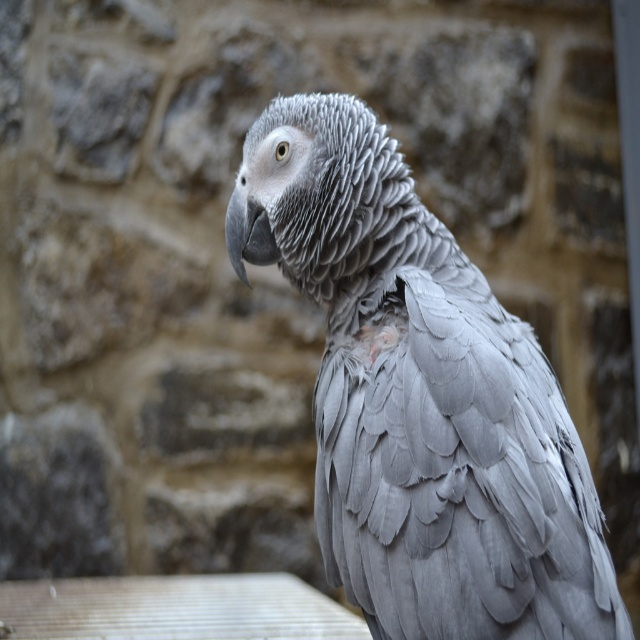Parrot: (225, 92, 635, 640)
